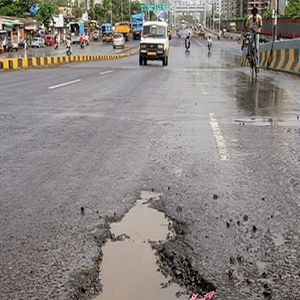pothole: (90, 192, 210, 300)
